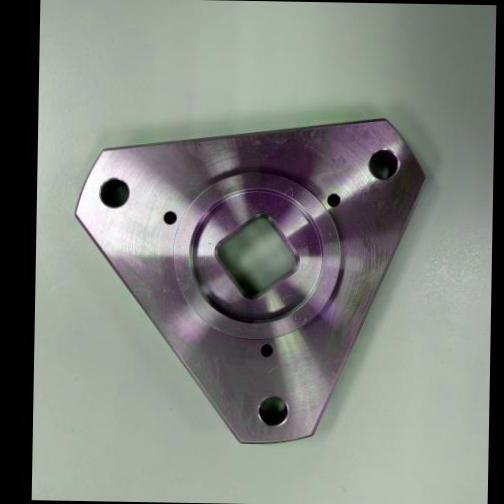hole: (94, 173, 132, 212), (362, 147, 403, 183), (254, 393, 292, 430), (323, 190, 344, 208), (258, 341, 276, 358), (162, 209, 178, 226)
